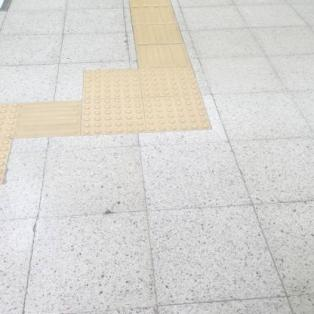Podoctatil: (66, 44, 235, 160), (121, 0, 195, 66), (15, 100, 82, 140)
